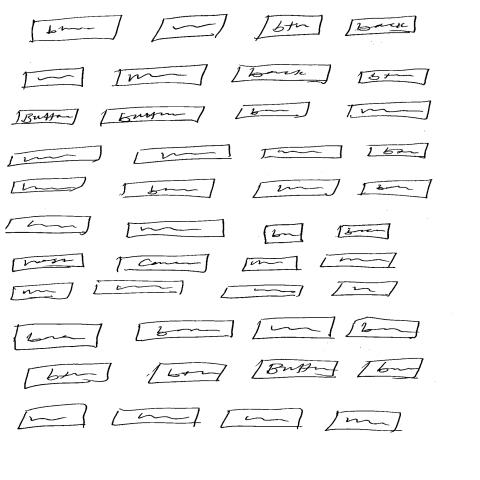Button: (29, 14, 124, 45), (114, 63, 209, 92), (13, 324, 103, 352), (24, 363, 113, 390), (151, 13, 230, 43), (230, 63, 334, 85), (134, 321, 237, 343), (251, 358, 340, 381), (126, 219, 227, 239), (343, 315, 423, 340), (115, 254, 212, 274), (100, 107, 207, 125), (121, 179, 217, 199), (254, 15, 325, 42), (147, 362, 228, 385), (348, 101, 433, 122), (344, 15, 419, 38), (357, 358, 426, 381), (21, 67, 86, 90), (360, 180, 435, 199), (358, 67, 431, 86), (235, 102, 311, 120), (14, 109, 80, 127), (368, 142, 430, 160), (338, 224, 392, 241)
